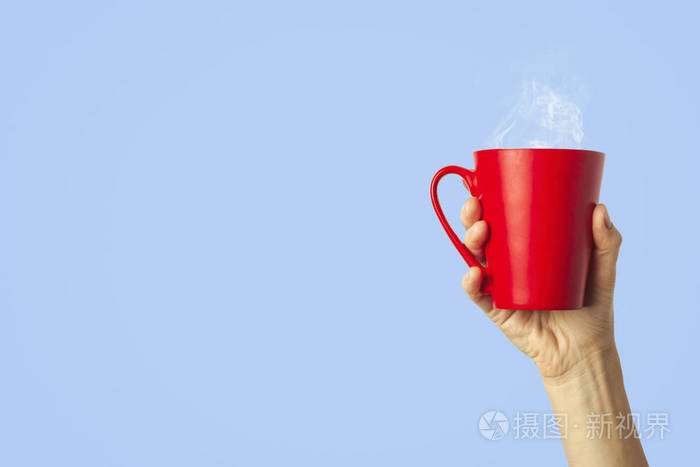no-phone: (429, 141, 629, 398)
